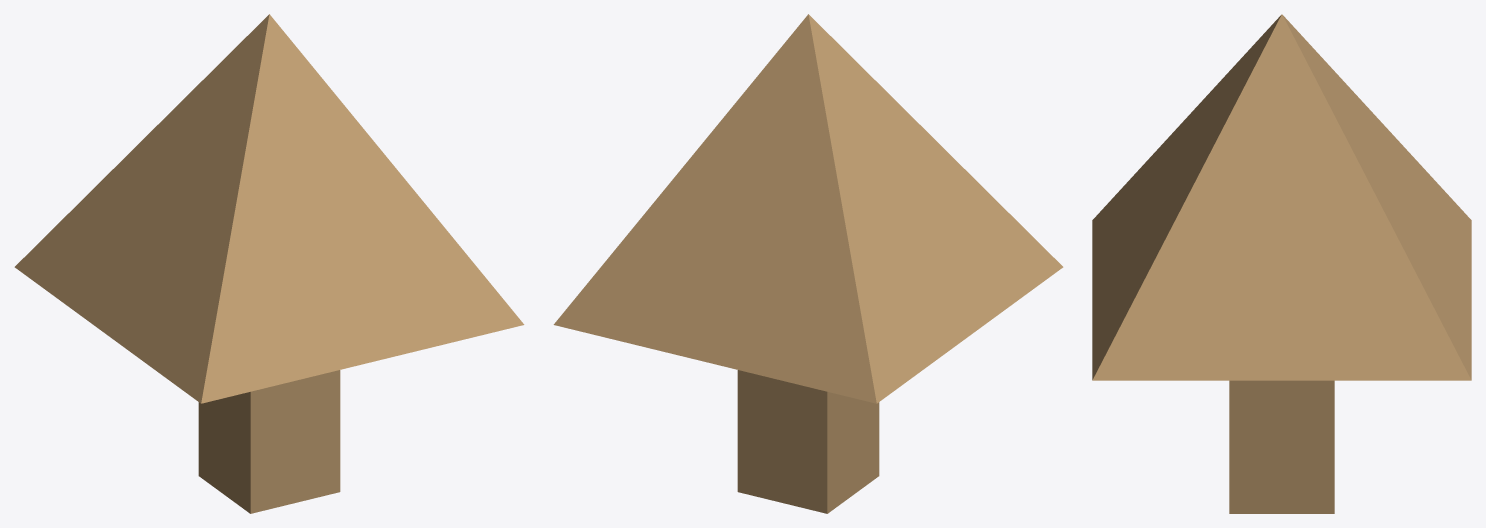
Rendered from tree.glb.
3 views of the same model, side by side, from view 1: azimuth 30°, elevation 25°; view 2: azimuth 150°, elevation 25°; view 3: azimuth 270°, elevation 25° (orthographic).
Bounding box in the file's own units: 3.6 × 5 × 3.6.
